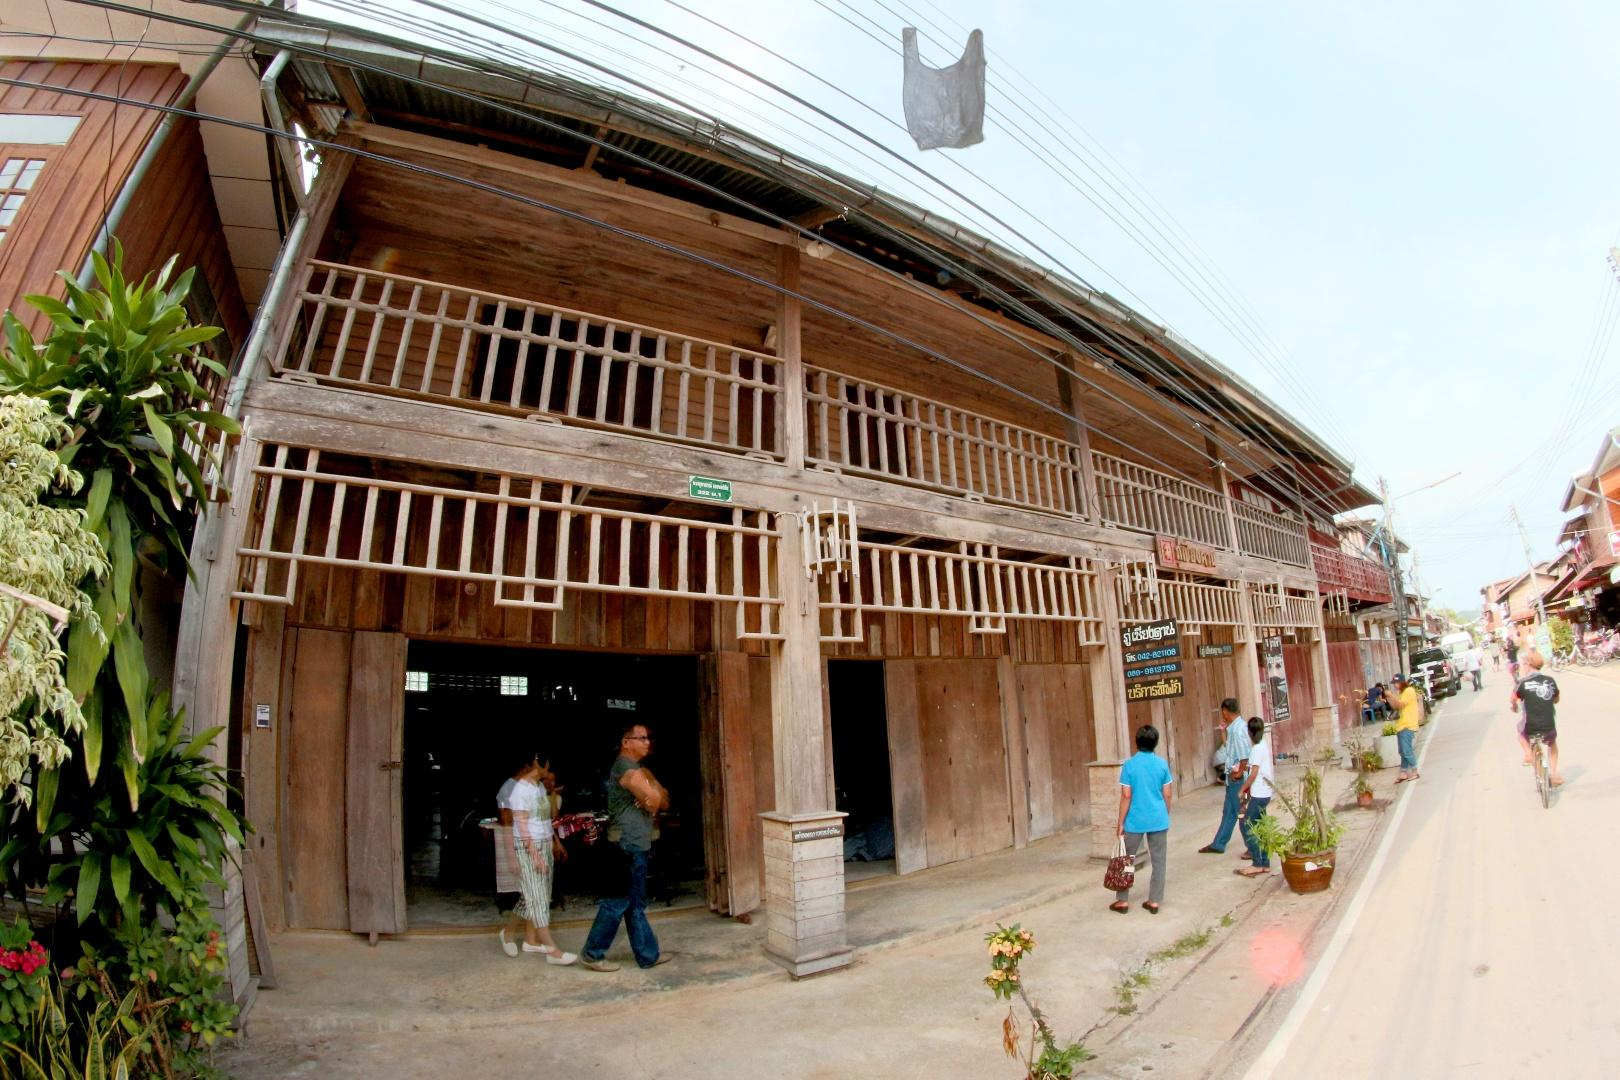plastic-bag: (900, 27, 990, 154)
